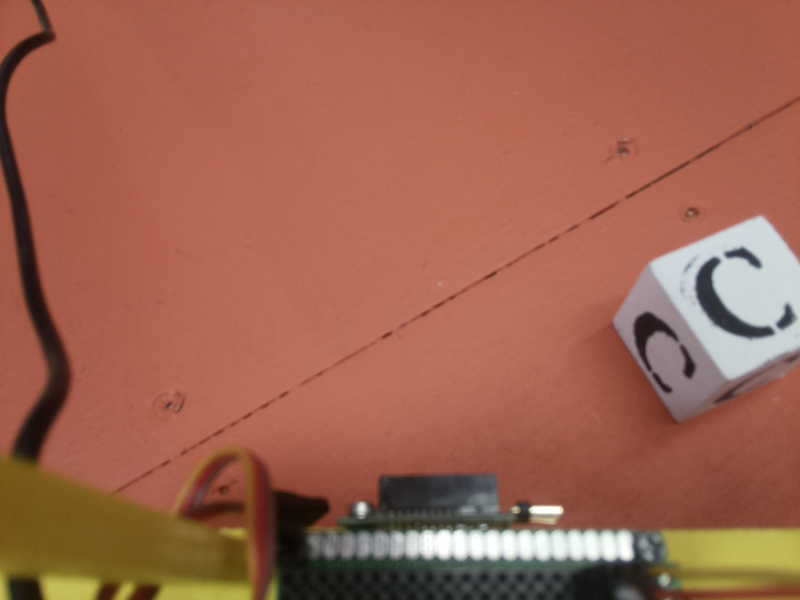blockC: (611, 213, 800, 425)
